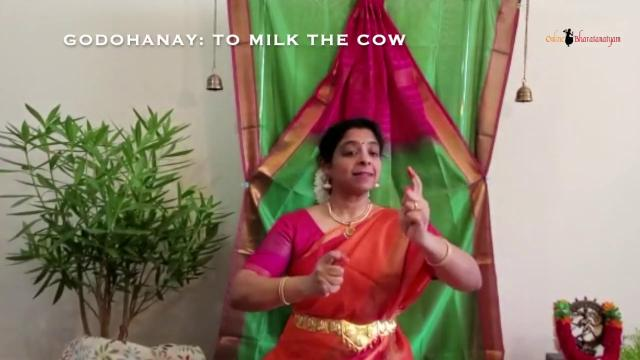kapitth: (314, 240, 352, 310)
